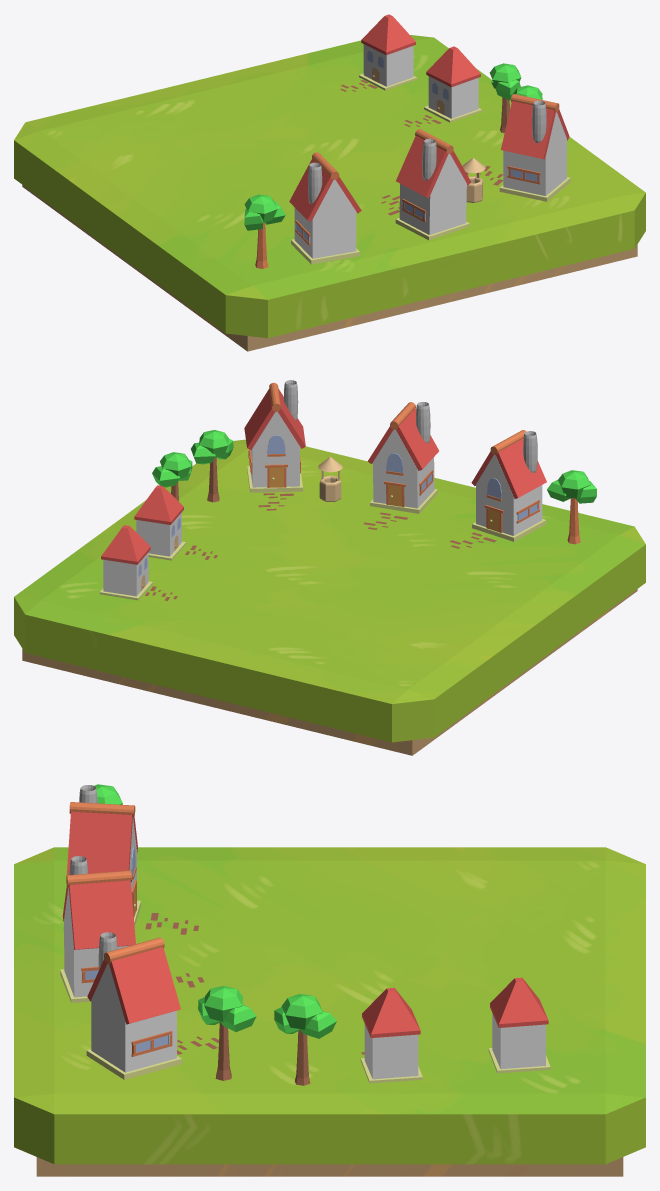
Rendered from haustile_01.fbx.
The picture shows the model from 3 angles, top to bottom: view 1: azimuth 30°, elevation 25°; view 2: azimuth 150°, elevation 25°; view 3: azimuth 270°, elevation 25°; orthographic projection. The views are drawn at different scales.
Visible parts, largest first — view 1: Cube.001, Cube, Cylinder.003, Cylinder, Cylinder.006, Cube.046, Cube.003, haus.001, haus, dach, dach.001, blaetter (+6 smaller); view 2: Cube.001, Cube, Cylinder.003, Cylinder, Cylinder.006, Cube.025, haus, dach.001, dach, haus.001, blaetter, Cube.003 (+6 smaller); view 3: Cube.001, Cube, Cylinder.006, Cube.002, Cube.045, Cube.024, haus.001, haus, dach, dach.001, blaetter_rechts.002, blaetter_rechts.001 (+7 smaller).
Boxes of the visible parts, left/top/right/bottom form: Cube.001: left=14, top=35, right=645, bottom=338; Cube: left=22, top=185, right=637, bottom=351; Cylinder.003: left=294, top=180, right=356, bottom=258; Cylinder: left=399, top=154, right=466, bottom=234; Cylinder.006: left=503, top=112, right=566, bottom=196; Cube.046: left=501, top=101, right=555, bottom=159; Cube.003: left=396, top=135, right=448, bottom=197; haus.001: left=428, top=76, right=478, bottom=118; haus: left=363, top=44, right=413, bottom=86; dach: left=361, top=14, right=415, bottom=55; dach.001: left=426, top=46, right=480, bottom=87; blaetter: left=244, top=194, right=285, bottom=230; Cube.001: left=14, top=439, right=645, bottom=742; Cube: left=22, top=589, right=637, bottom=755; Cylinder.003: left=476, top=455, right=542, bottom=535; Cylinder: left=373, top=429, right=434, bottom=508; Cylinder.006: left=250, top=411, right=299, bottom=487; Cube.025: left=495, top=438, right=546, bottom=498; haus: left=103, top=552, right=148, bottom=596; dach.001: left=134, top=485, right=183, bottom=524; dach: left=101, top=525, right=150, bottom=564; haus.001: left=136, top=512, right=181, bottom=556; blaetter: left=547, top=470, right=596, bottom=503; Cube.003: left=396, top=408, right=438, bottom=470; Cube.001: left=14, top=847, right=645, bottom=1164; Cube: left=36, top=1157, right=623, bottom=1176; Cylinder.006: left=91, top=964, right=176, bottom=1072; Cube.002: left=68, top=880, right=135, bottom=949; Cube.045: left=109, top=947, right=180, bottom=1024; Cube.024: left=67, top=811, right=132, bottom=875; haus.001: left=364, top=1024, right=418, bottom=1079; haus: left=492, top=1013, right=545, bottom=1069; dach: left=490, top=977, right=548, bottom=1027; dach.001: left=362, top=987, right=420, bottom=1037; blaetter_rechts.002: left=274, top=994, right=336, bottom=1038; blaetter_rechts.001: left=198, top=985, right=256, bottom=1031.
Size of the model in its own units: 108 by 36.91 by 108.
17 materials, 2 textured.
